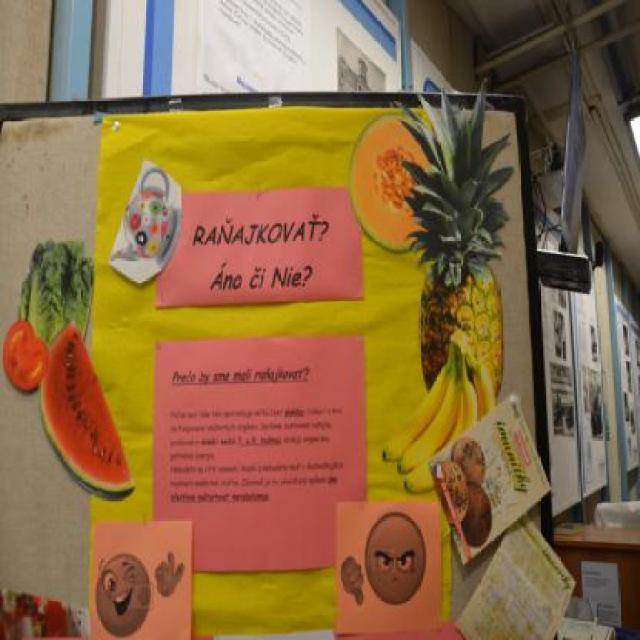Pineapple: (394, 88, 514, 450)
